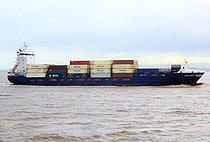Ship: (7, 40, 210, 95)
